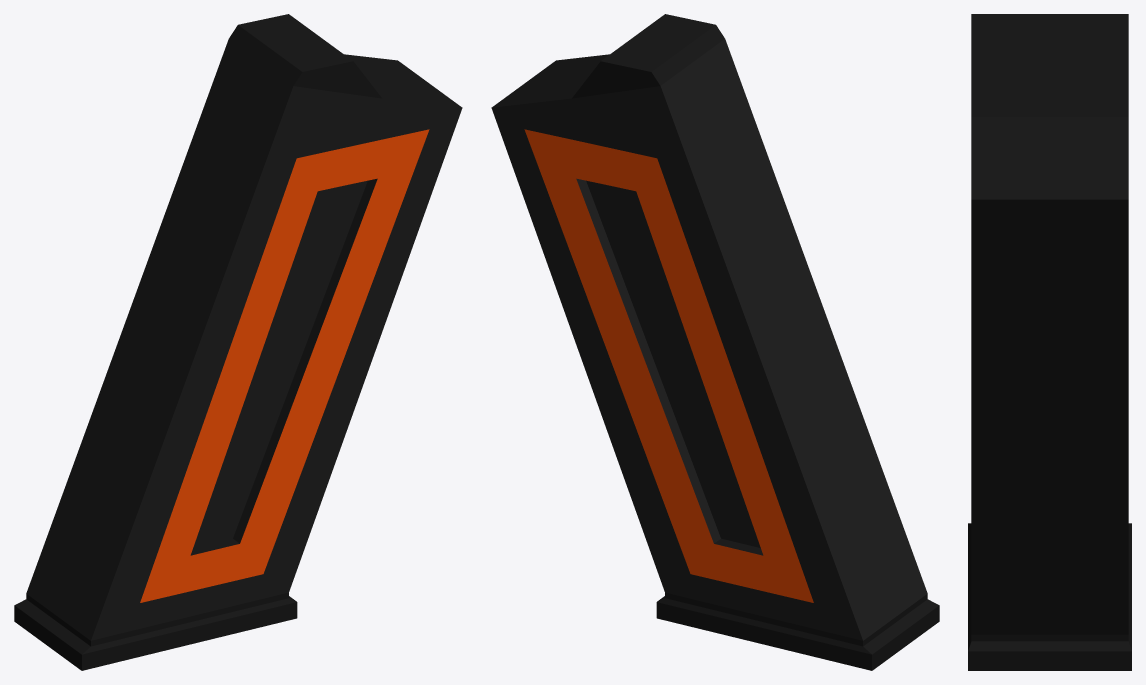
File: clipFire.glb
The picture shows the model from 3 angles, left to right: view 1: azimuth 30°, elevation 25°; view 2: azimuth 150°, elevation 25°; view 3: azimuth 270°, elevation 25°; orthographic projection. The views are drawn at different scales.
Visible parts, largest first — view 1: Clip; view 2: Clip; view 3: Clip.
Part boxes in pixels (box(x1,y1,x2,y2)): Clip: box(14, 14, 462, 670); Clip: box(491, 14, 939, 670); Clip: box(968, 14, 1131, 670).
Size of the model in its own units: 0.1051 by 0.1428 by 0.0321.
1 material, 1 textured.
